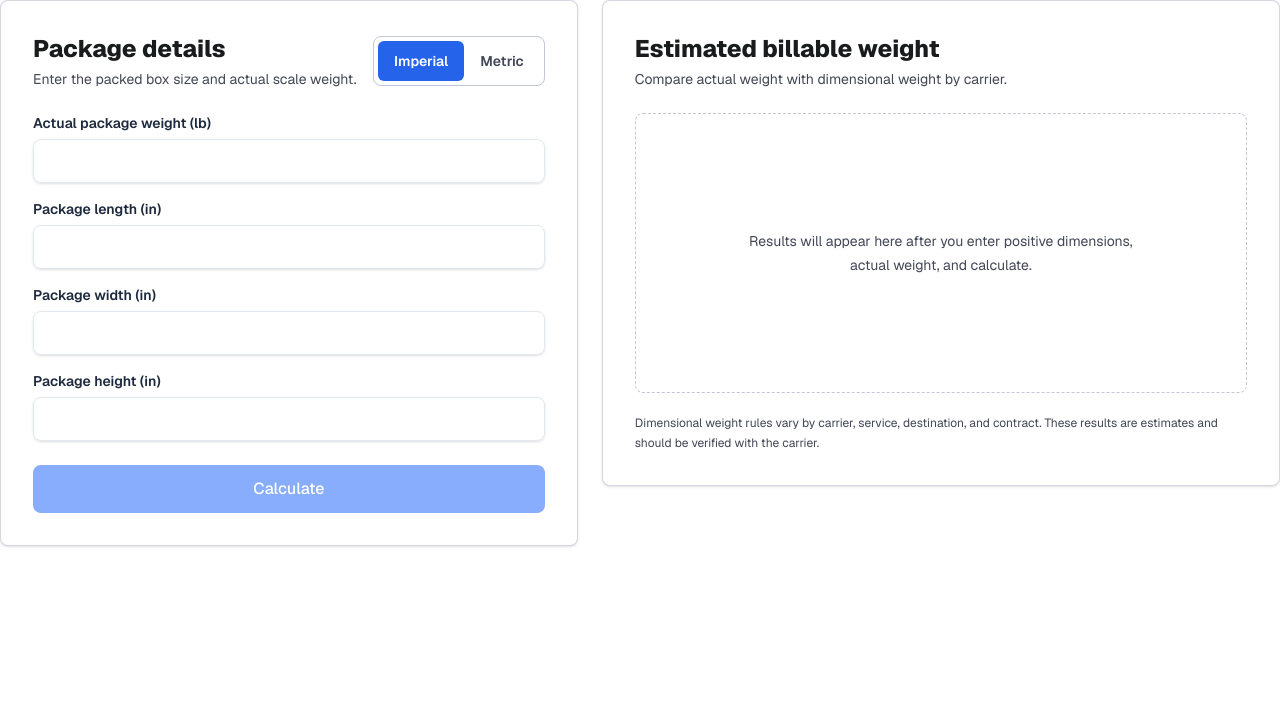
DimensionalWeightCalculator › converts entered values when switching unit systems
Type "2" into the number field labelled "Actual package weight (lb)" at (289, 161), box 33,139 -> 545,183
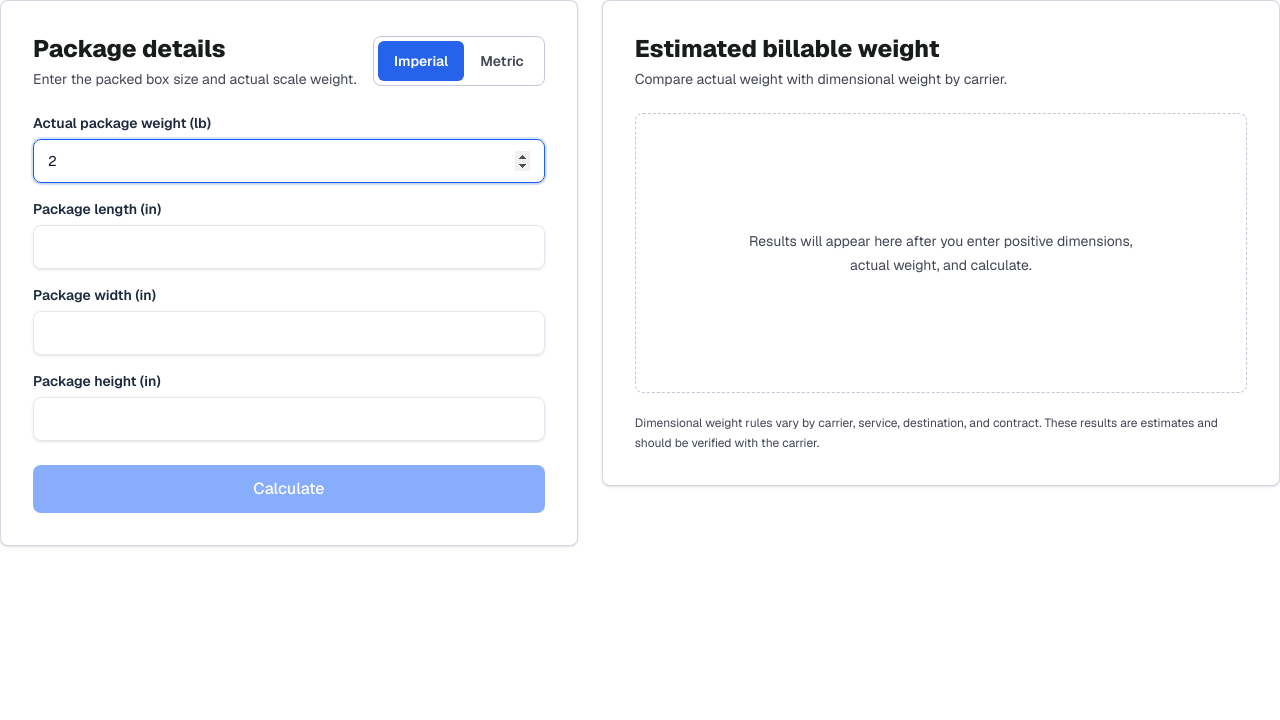
Type "10" into the number field labelled "Package length (in)" at (289, 247), box 33,225 -> 545,269
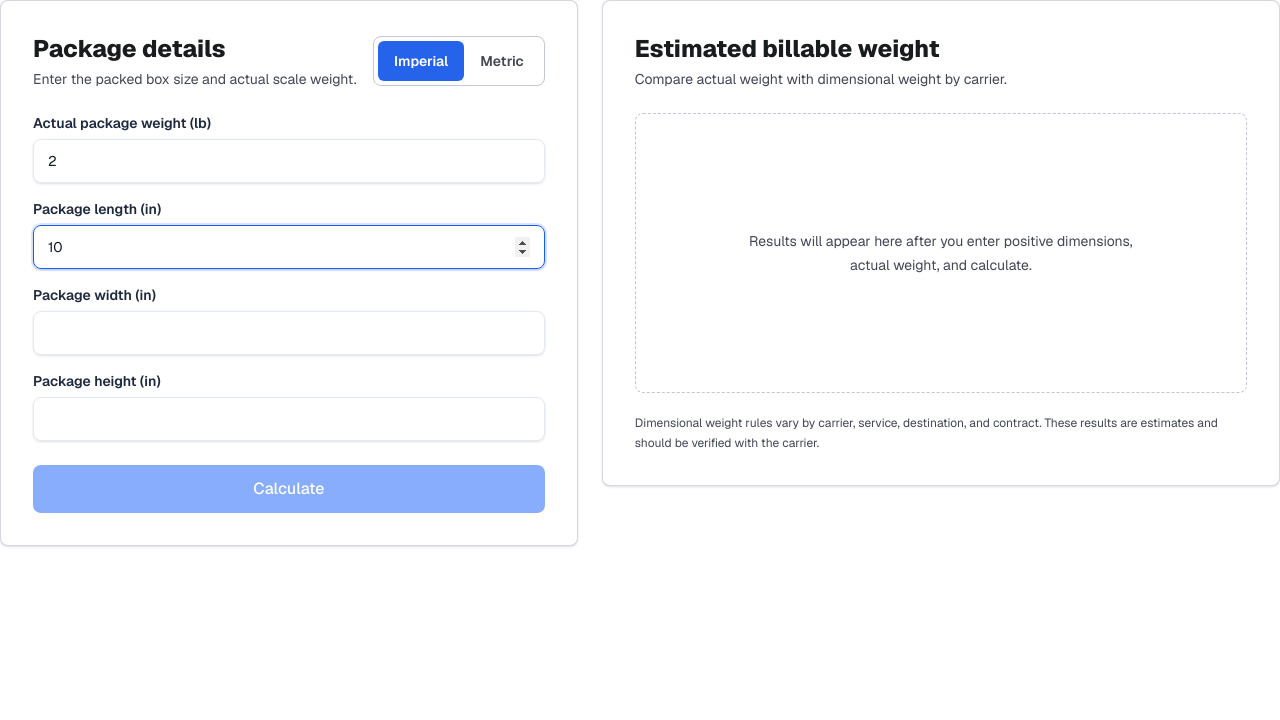
Click the button "Metric" at (502, 61), box 464,41 -> 540,81
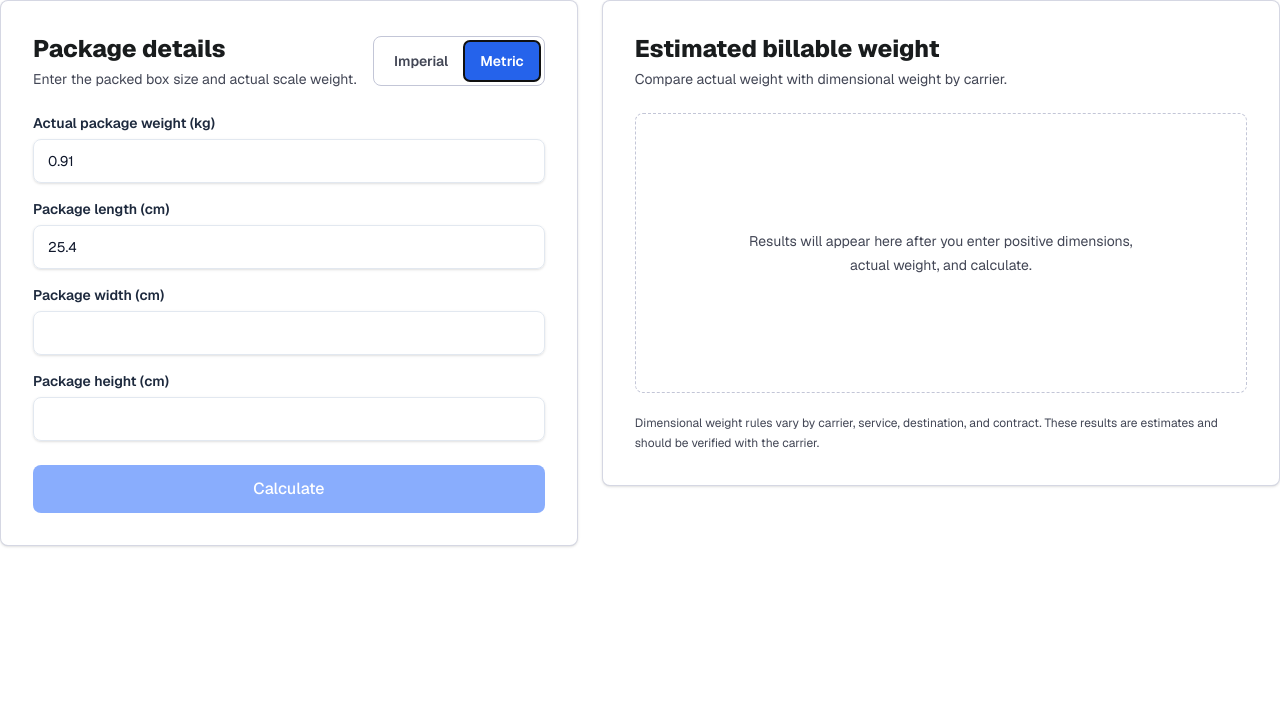
Now the number field labelled "Actual package weight (kg)" holds "0.91", box 33,139 -> 545,183
Now the number field labelled "Package length (cm)" holds "25.4", box 33,225 -> 545,269
